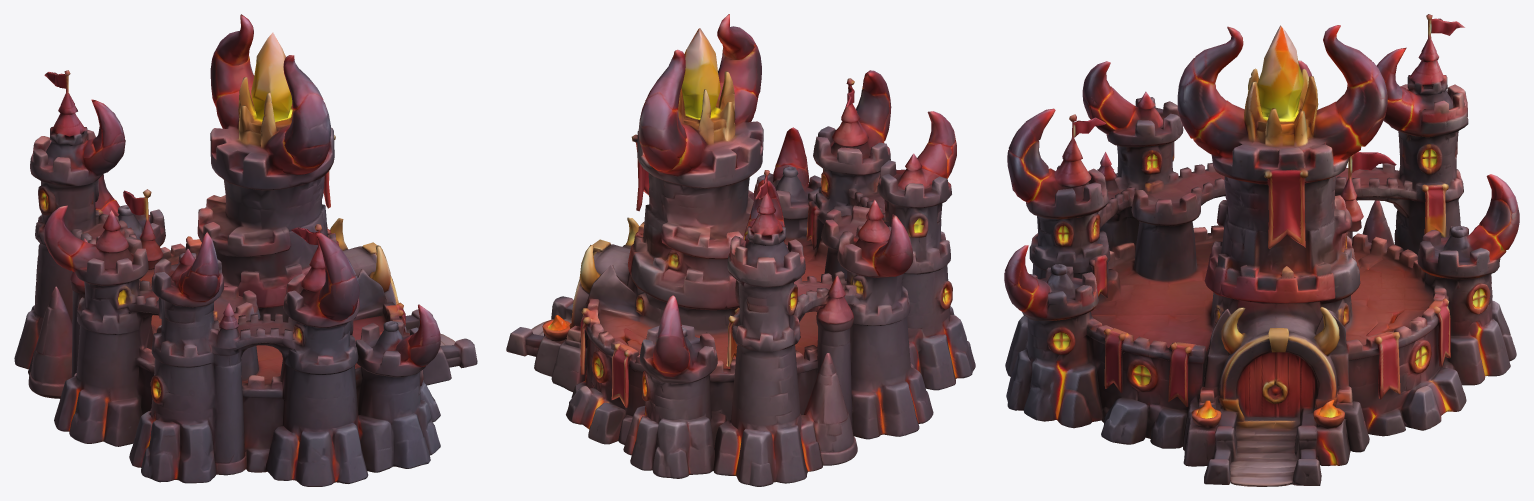
File: Town_Horns_Castle_nowin_HD_src.glb
3 renders of one model, left to right at view 1: azimuth 30°, elevation 25°; view 2: azimuth 150°, elevation 25°; view 3: azimuth 270°, elevation 25°, orthographic. The views are drawn at different scales.
Parts seen in each view (by area): view 1: tripo_node_2b03e9a5-4b64-4e0b-9524-3e9b51b7efc7; view 2: tripo_node_2b03e9a5-4b64-4e0b-9524-3e9b51b7efc7; view 3: tripo_node_2b03e9a5-4b64-4e0b-9524-3e9b51b7efc7.
Part boxes in pixels (x1,y1,x2,y2): tripo_node_2b03e9a5-4b64-4e0b-9524-3e9b51b7efc7: (14,14,477,486); tripo_node_2b03e9a5-4b64-4e0b-9524-3e9b51b7efc7: (506,14,975,486); tripo_node_2b03e9a5-4b64-4e0b-9524-3e9b51b7efc7: (1004,14,1519,486).
Size of the model in its own units: 0.9167 by 0.7819 by 0.9795.
1 material, 1 textured.
